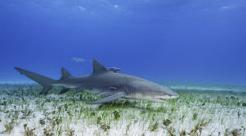Shark -Selachimorpha-: (13, 56, 177, 104)
